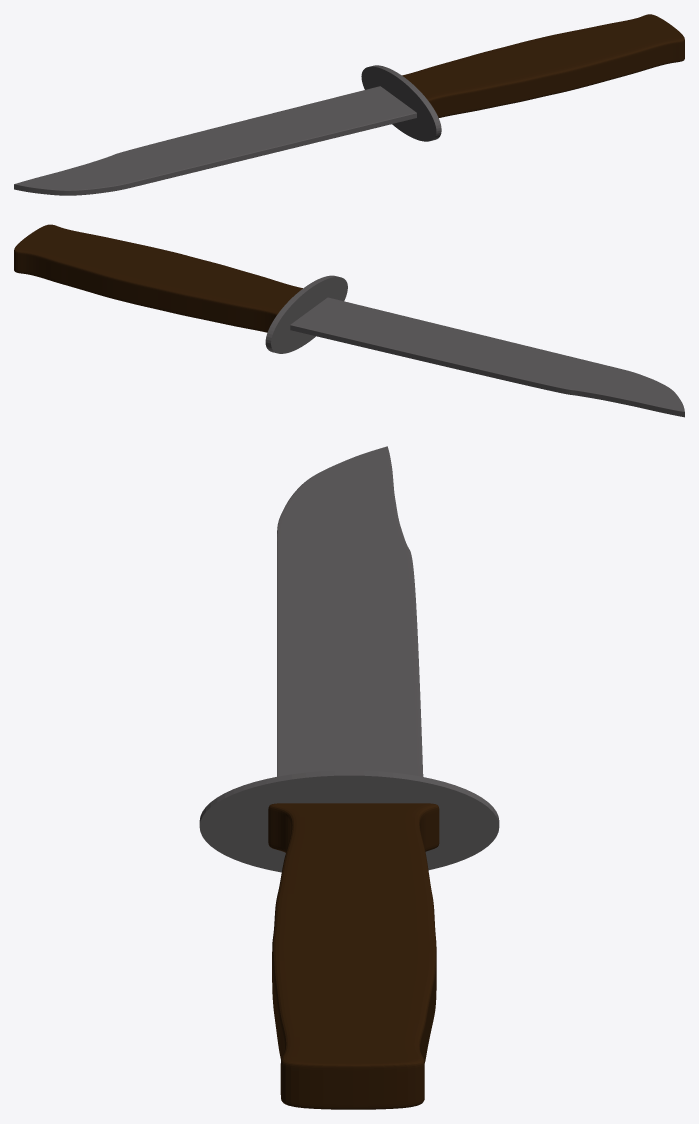
File: Knife.fbx
3 views of the same model, one above another, from view 1: azimuth 30°, elevation 25°; view 2: azimuth 150°, elevation 25°; view 3: azimuth 270°, elevation 25° (orthographic). The views are drawn at different scales.
Parts seen in each view (by area): view 1: Plane, Plane.001, Cylinder; view 2: Plane, Plane.001, Cylinder; view 3: Plane, Plane.001, Cylinder.
Part boxes in pixels (box(x1,y1,x2,y2)): Plane: box(402, 14, 684, 117); Plane.001: box(14, 86, 416, 195); Cylinder: box(361, 65, 441, 141); Plane: box(14, 224, 302, 332); Plane.001: box(290, 297, 684, 417); Cylinder: box(265, 275, 347, 353); Plane: box(268, 803, 439, 1109); Plane.001: box(277, 446, 423, 776); Cylinder: box(199, 770, 499, 872).
Bounding box in the file's own units: 451 × 34 × 90.1.
